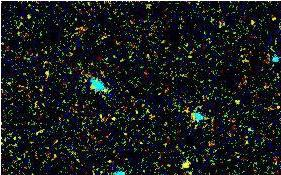star: (161, 146, 191, 175)
